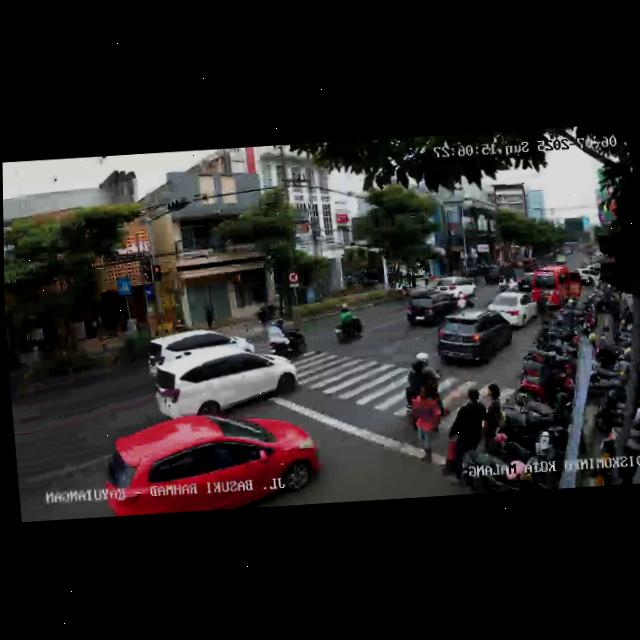car: (99, 406, 322, 518), (151, 342, 299, 422), (144, 324, 257, 381), (431, 305, 515, 369), (402, 282, 471, 328), (531, 264, 586, 311), (483, 288, 539, 330), (432, 272, 477, 301), (482, 263, 502, 284)
motorcycle: (403, 351, 442, 400), (266, 313, 308, 358), (331, 304, 367, 346)
person: (444, 387, 491, 485), (407, 384, 447, 468), (481, 382, 507, 448)
